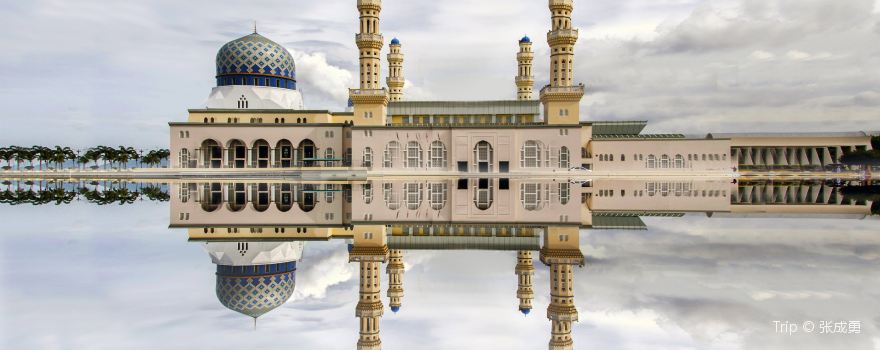Mosque: (162, 4, 604, 269)
